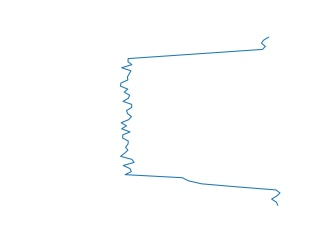distributaryChannelFill: (116, 35, 288, 210)
